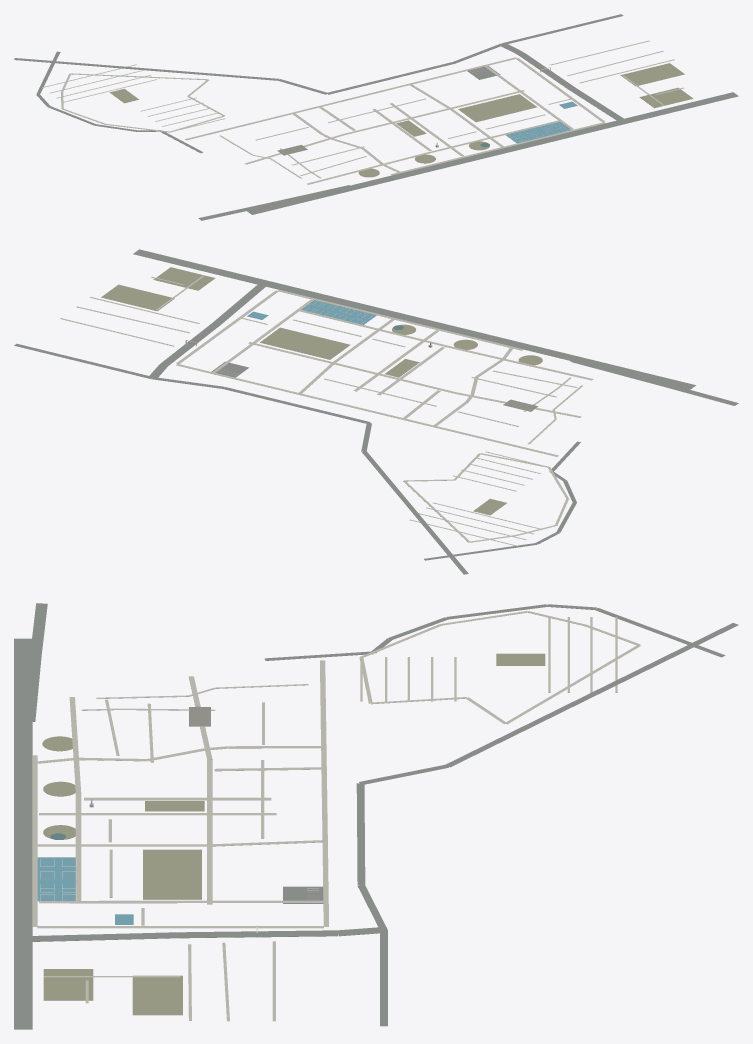
File: 00-hanbing-v14.glb
3 renders of one model, top to bottom at view 1: azimuth 30°, elevation 25°; view 2: azimuth 150°, elevation 25°; view 3: azimuth 270°, elevation 25°, orthographic. The views are drawn at different scales.
Parts seen in each view (by area): view 1: 邯郸路.001, 国旗坪.001, Campus east west road.008, 东区草坪.001, 北侧边界道路.005, 室外球场.001, 新闻学院庭院.001, Campus east west road.015, 国定路.004, 北侧边界道路.007, 国定路.003, 北侧边界道路.009; view 2: 邯郸路.001, 国旗坪.001, 东区草坪.001, Campus east west road.008, 室外球场.001, 北侧边界道路.005, 新闻学院庭院.001, Campus east west road.015; view 3: 邯郸路.001, 国旗坪.001, 东区草坪.001, 室外球场.001, 北侧边界道路.005, Campus east west road.008, 新闻学院庭院.001, 国定路.004, 国定路.003, Campus east west road.015, Campus north south road.022, Campus north south road.023 (+5 smaller).
Part boxes in pixels (x1,y1,x2,y2): 邯郸路.001: (247,92,738,214); 国旗坪.001: (458,94,537,122); Campus east west road.008: (185,57,516,140); 东区草坪.001: (620,63,684,86); 北侧边界道路.005: (14,58,279,80); 室外球场.001: (506,121,571,143); 新闻学院庭院.001: (639,87,693,108); Campus east west road.015: (390,122,605,175); 国定路.004: (517,52,574,89); 北侧边界道路.007: (327,62,454,94); 国定路.003: (568,87,626,122); 北侧边界道路.009: (502,14,623,43); 邯郸路.001: (133,249,695,389); 国旗坪.001: (260,327,350,359); 东区草坪.001: (101,284,174,311); Campus east west road.008: (176,364,558,456); 室外球场.001: (301,300,376,324); 北侧边界道路.005: (361,451,468,574); 新闻学院庭院.001: (153,267,215,290); Campus east west road.015: (277,289,523,350); 邯郸路.001: (14,638,32,1029); 国旗坪.001: (143,849,201,899); 东区草坪.001: (132,975,182,1015); 室外球场.001: (37,857,75,901); 北侧边界道路.005: (445,623,738,767); Campus east west road.008: (320,660,328,926); 新闻学院庭院.001: (43,969,93,1000); 国定路.004: (177,930,338,938); 国定路.003: (23,932,177,941); Campus east west road.015: (32,755,37,926); Campus north south road.022: (39,900,326,903); Campus north south road.023: (37,926,323,928).
Size of what is drawn, in the model's own units: 1038 by 8.23 by 746.
Materials: 11 (1 with a texture image).
